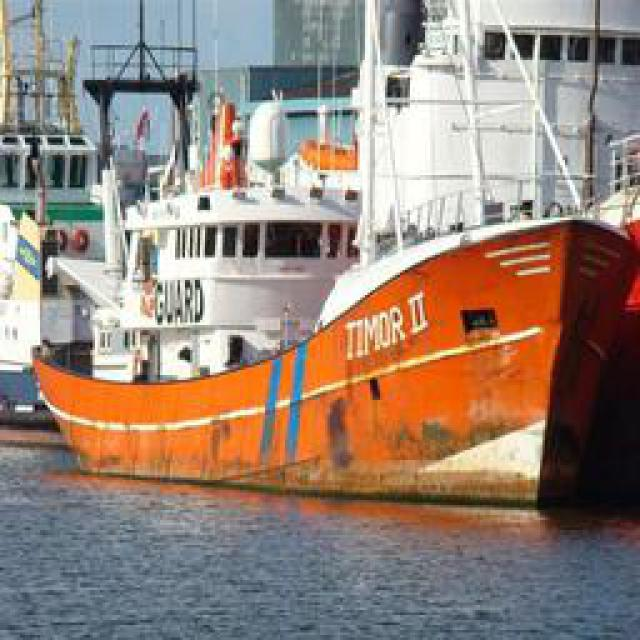Ship: (26, 89, 634, 492)
